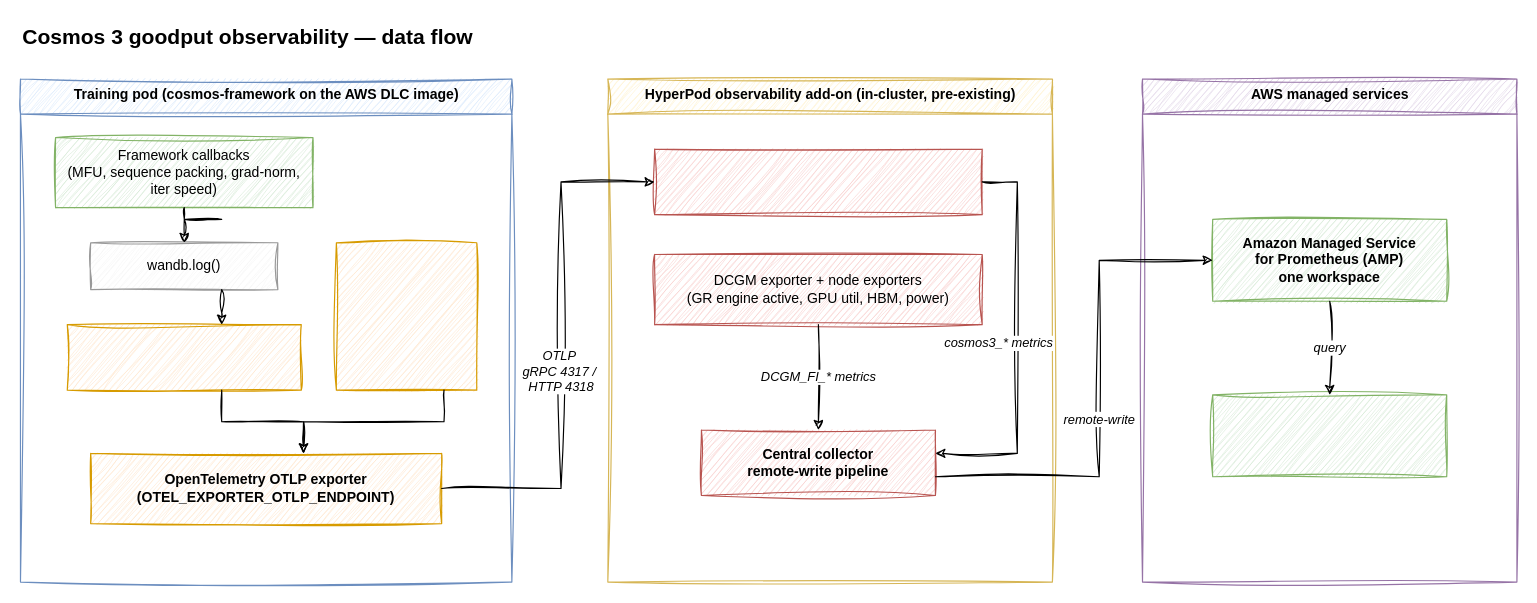
The diagram is 1537 pixels wide and 603 high, and some of its shapes have lost their labels. Each missing label, with the centre of its shape:
Amazon Managed Grafana one unified goodput pane: (x=1329, y=435)
OTLP receiver hyperpod-otel-collector :4317: (x=817, y=181)
OTLPCallback (sample-added) loss, step_time, iteration: (x=406, y=316)
wandb→OTLP bridge (sample-added): (x=183, y=357)
